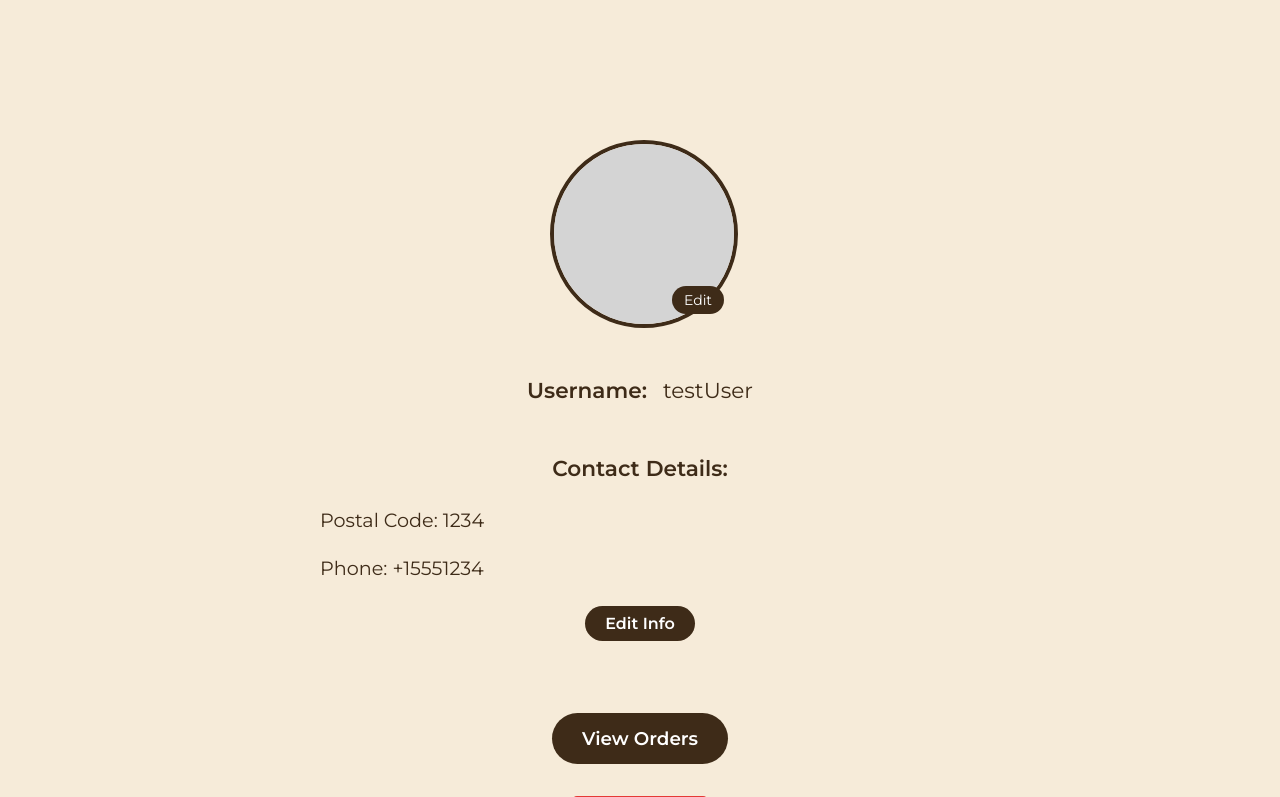
Test case: Profile Page › opens edit modal when "Edit Info" is clicked
Click the button "Edit Info" at (640, 624), box [585,606,695,641]
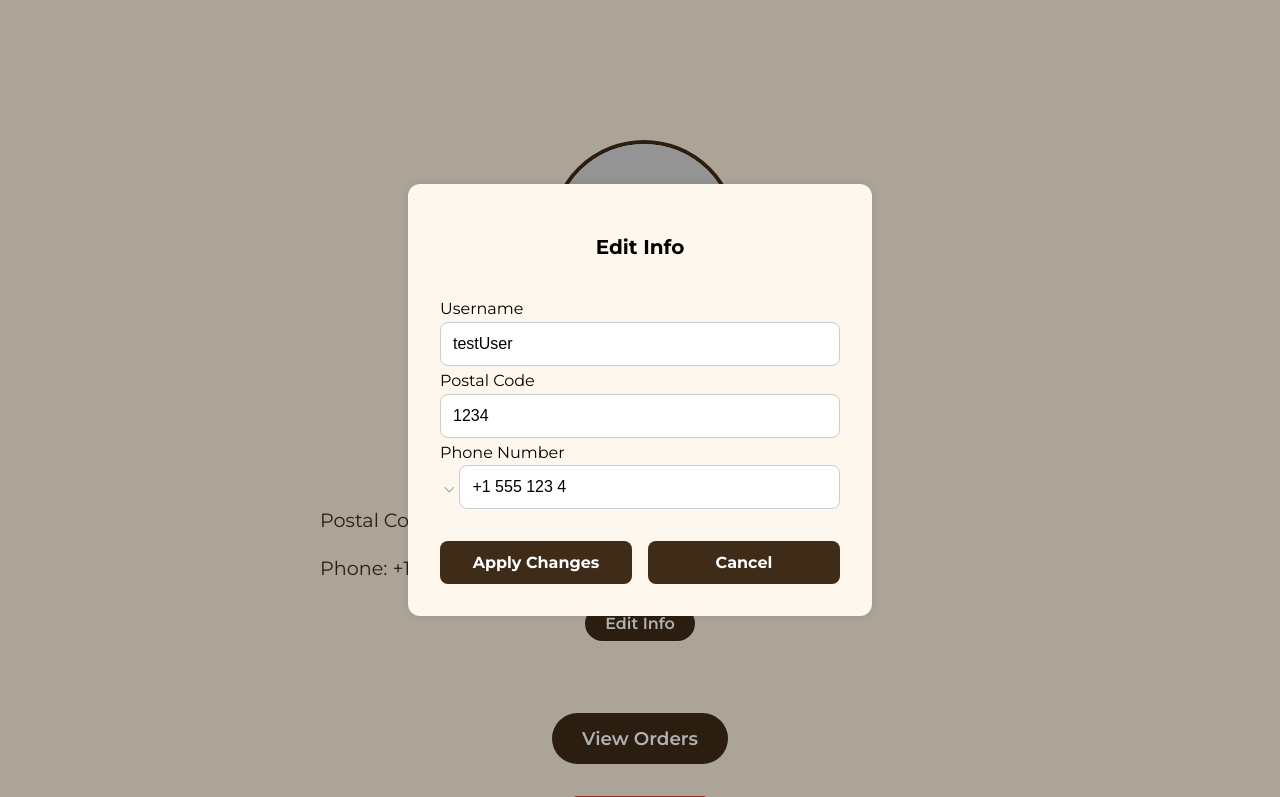
Expected: the heading "Edit Info" is shown, [596,235,684,259]
